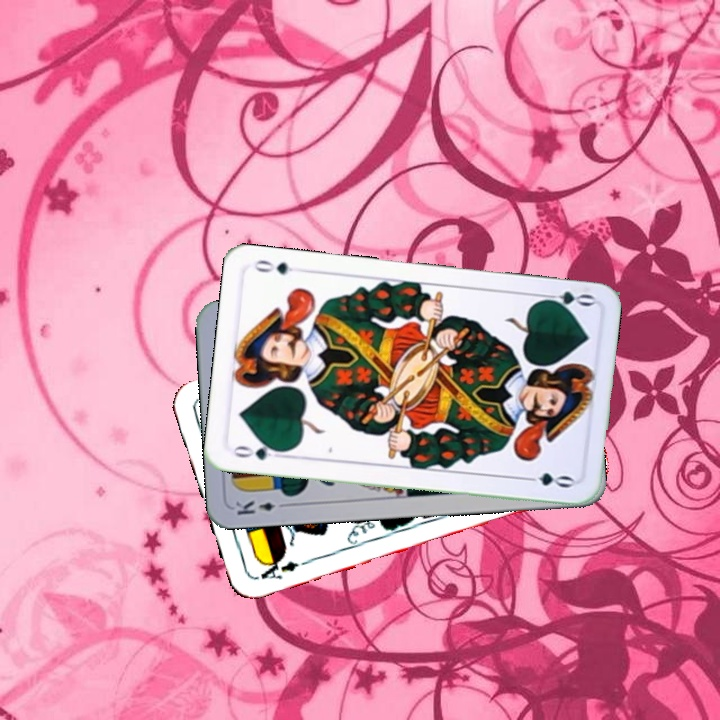EA: (253, 552, 302, 583)
EK: (231, 497, 291, 518)
GO: (536, 287, 596, 313), (229, 439, 288, 463)
